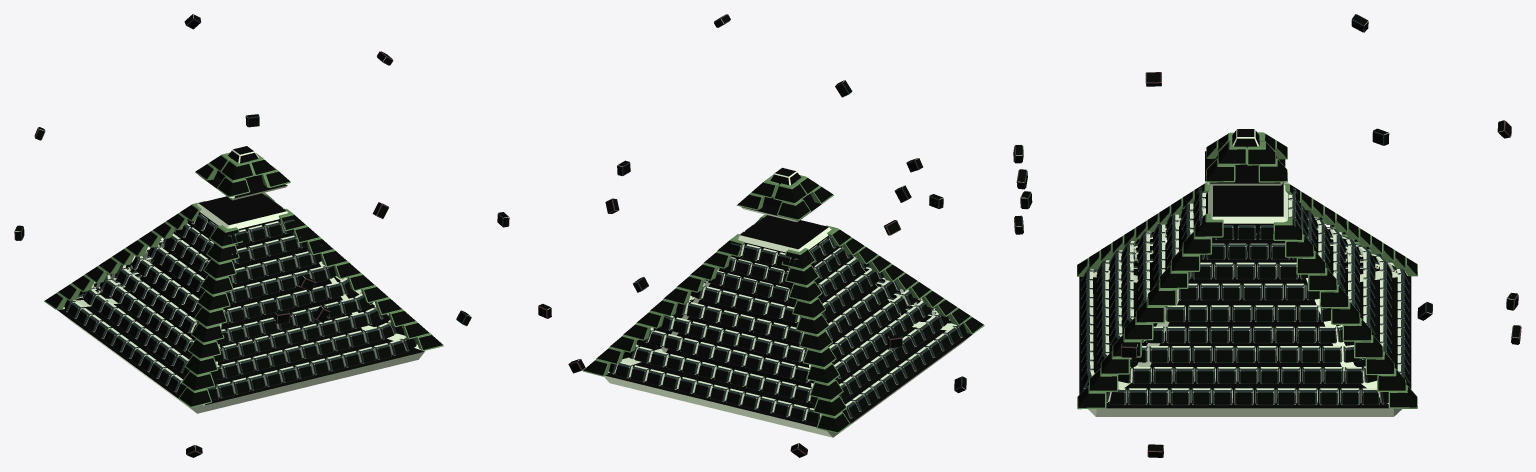
The picture shows the model from 3 angles, left to right: view 1: azimuth 30°, elevation 25°; view 2: azimuth 150°, elevation 25°; view 3: azimuth 270°, elevation 25°; orthographic projection. The views are drawn at different scales.
Parts seen in each view (by area): view 1: Cube, originalBrick, corner, originalBrick01, originalBrick02, originalBrick03, corner.001, originalBrick04, corner.002, originalBrick05, originalBrick06, originalBrick07 (+6 smaller); view 2: Cube, originalBrick, corner.002, originalBrick01, originalBrick02, originalBrick03, corner.003, originalBrick04, corner, originalBrick05, originalBrick06, originalBrick07 (+8 smaller); view 3: Cube, originalBrick, originalBrick01, originalBrick02, corner.003, corner.001, originalBrick03, originalBrick04, originalBrick05, originalBrick06, corner.002, originalBrick07 (+8 smaller).
Boxes of the visible parts, x1,y1,x2,y2 form: Cube: (57,193,425,413); originalBrick: (64,283,417,399); corner: (178,225,242,407); originalBrick01: (82,273,402,380); originalBrick02: (100,268,387,361); originalBrick03: (115,258,372,344); corner.001: (278,208,443,351); originalBrick04: (131,249,352,324); corner.002: (44,201,205,309); originalBrick05: (148,239,336,303); originalBrick06: (163,231,321,284); originalBrick07: (174,223,307,264); Cube: (604,215,972,437); originalBrick: (609,301,966,423); corner.002: (781,248,850,433); originalBrick01: (624,294,949,403); originalBrick02: (644,283,933,383); originalBrick03: (661,279,918,362); corner.003: (583,234,744,376); originalBrick04: (676,268,900,343); corner: (825,225,984,334); originalBrick05: (690,265,883,322); originalBrick06: (705,254,868,303); originalBrick07: (719,246,852,286); Cube: (1079,184,1411,416); originalBrick: (1081,258,1409,405); originalBrick01: (1096,252,1392,383); originalBrick02: (1109,242,1375,362); corner.003: (1273,217,1417,408); corner.001: (1077,213,1223,409); originalBrick03: (1121,235,1359,343); originalBrick04: (1137,227,1345,321); originalBrick05: (1153,218,1330,300); originalBrick06: (1166,210,1316,279); corner.002: (1283,183,1417,276); originalBrick07: (1181,201,1308,259).
Size of the model in its own units: 258 by 215 by 252.
Materials: 4 (4 with a texture image).
